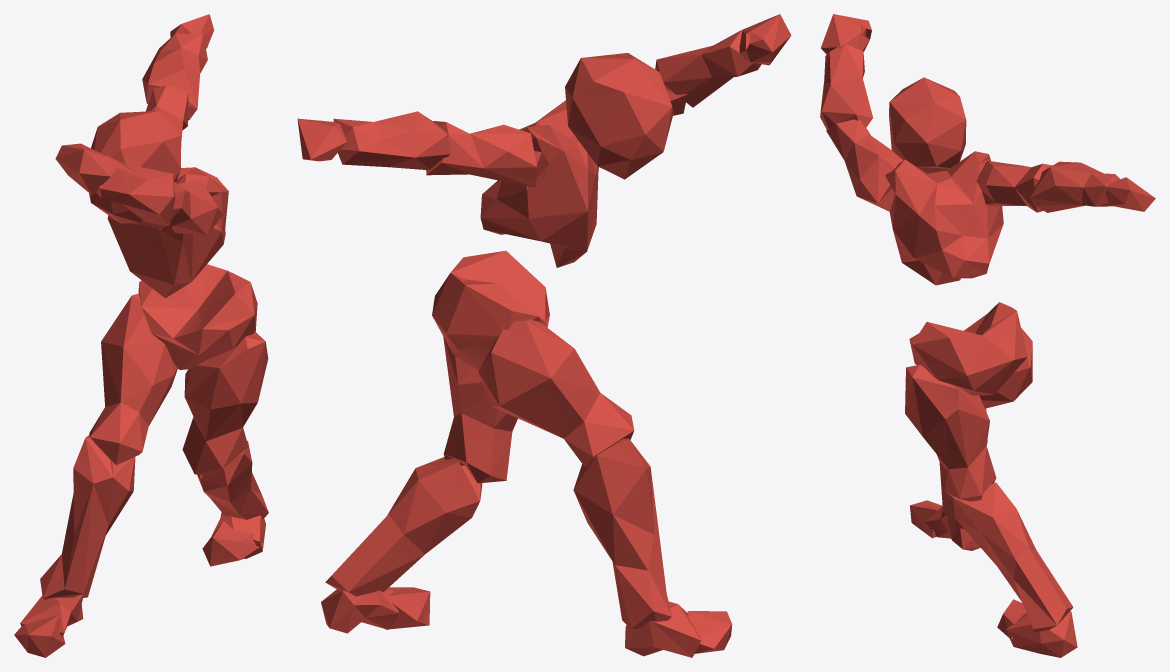
File: 2dancer0187.obj
3 renders of one model, left to right at view 1: azimuth 30°, elevation 25°; view 2: azimuth 150°, elevation 25°; view 3: azimuth 270°, elevation 25°, orthographic. The views are drawn at different scales.
Parts seen in each view (by area): view 1: Beta_Surface; view 2: Beta_Surface; view 3: Beta_Surface.
Part boxes in pixels (bbox=[...]): Beta_Surface: bbox=[14, 14, 268, 657]; Beta_Surface: bbox=[297, 14, 791, 657]; Beta_Surface: bbox=[820, 14, 1155, 657].
Size of the model in its own units: 1.01 by 1.71 by 1.01.
